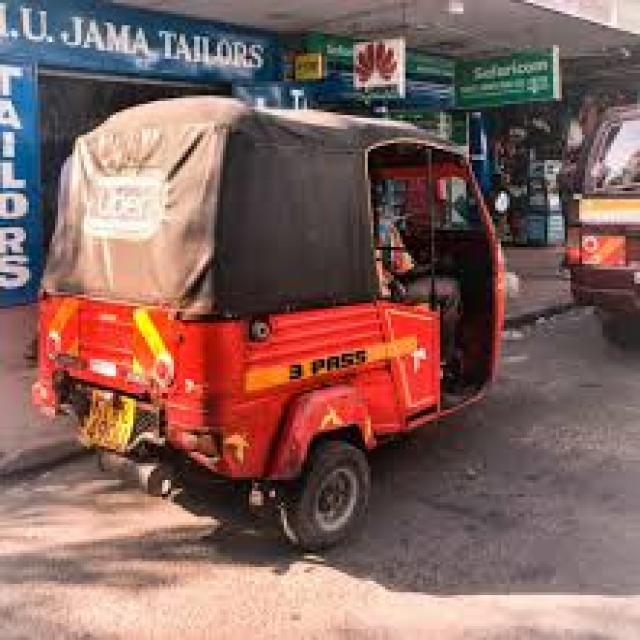tuktuk: (27, 46, 543, 579)
